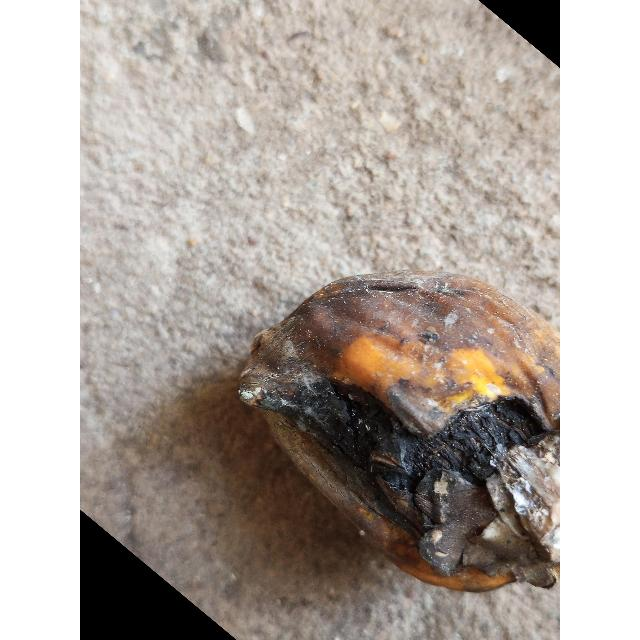damaged: (236, 273, 560, 595)
